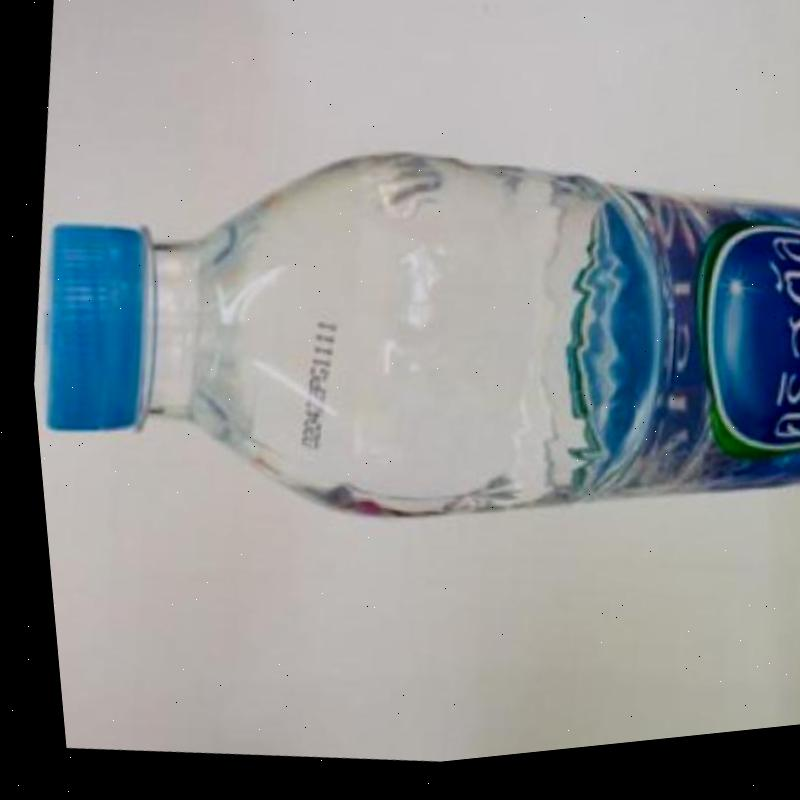botella: (10, 79, 800, 617)
